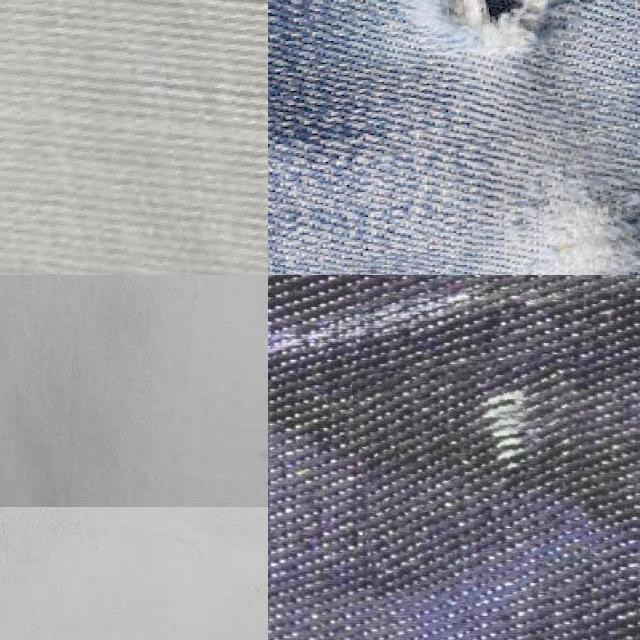other: (416, 0, 578, 50)
stains: (358, 357, 588, 603)
